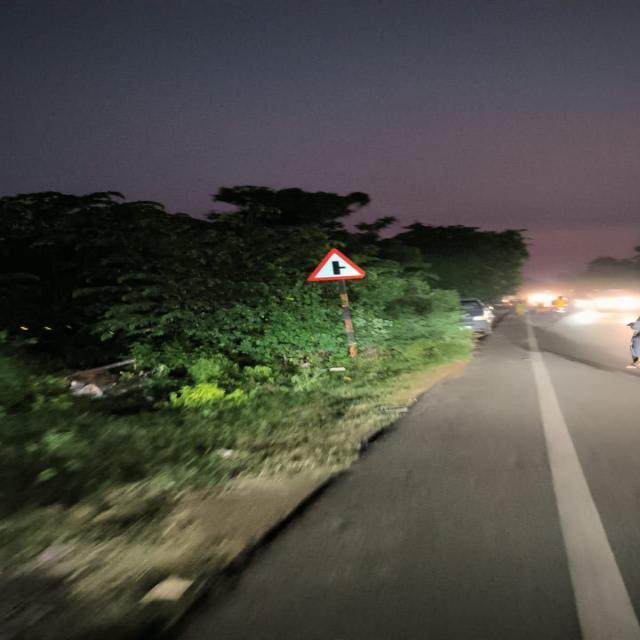side road right: (305, 246, 365, 281)
